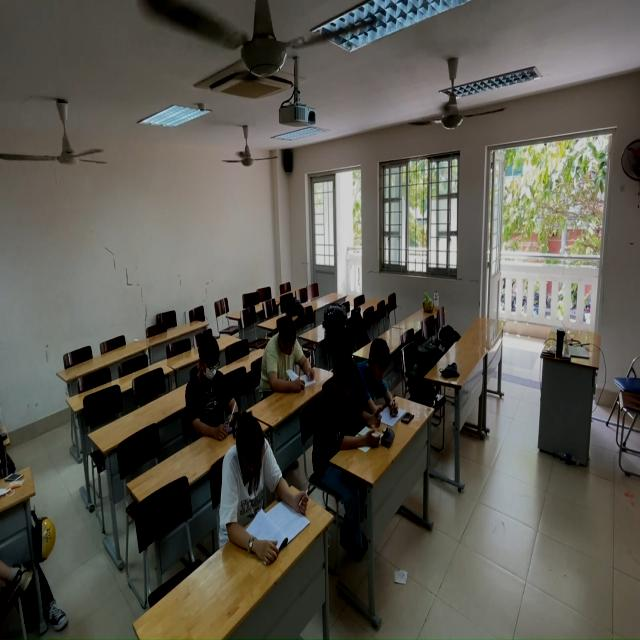read: (216, 408, 309, 557), (316, 354, 384, 460), (184, 334, 243, 437), (259, 312, 321, 396), (353, 336, 404, 422)
